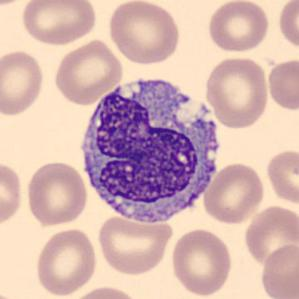Monocyte: (73, 68, 225, 228)
RBC: (202, 55, 270, 130), (52, 37, 125, 106), (106, 0, 182, 66), (96, 213, 174, 277), (168, 226, 234, 298), (33, 226, 99, 298), (24, 159, 90, 228), (202, 160, 267, 226), (19, 0, 98, 47), (242, 202, 298, 268), (205, 0, 271, 54), (0, 47, 46, 118), (258, 242, 298, 299), (264, 146, 298, 207), (265, 56, 298, 112), (0, 159, 25, 229), (276, 0, 298, 53), (67, 284, 143, 299)
